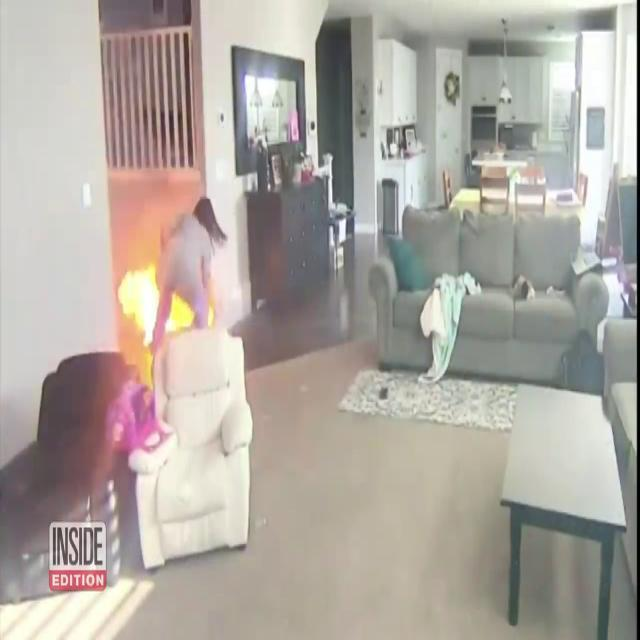Fire: (116, 239, 196, 357)
